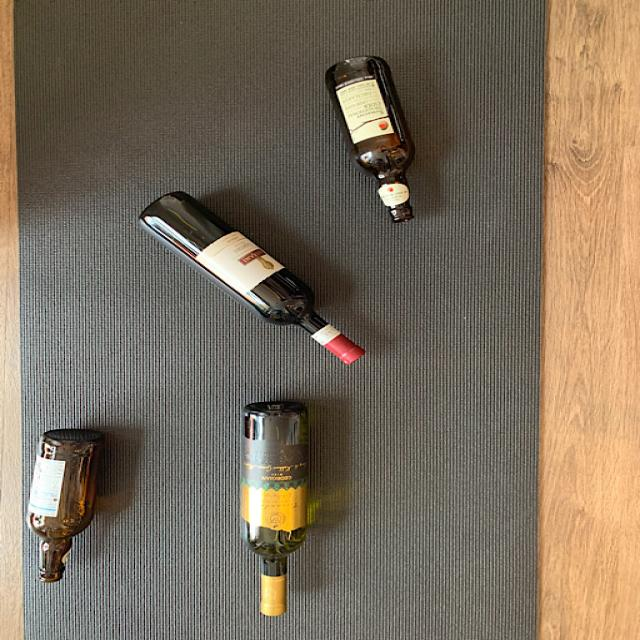Glass Bottle: (137, 188, 365, 364), (232, 398, 312, 620), (322, 57, 422, 231), (23, 426, 112, 586)
